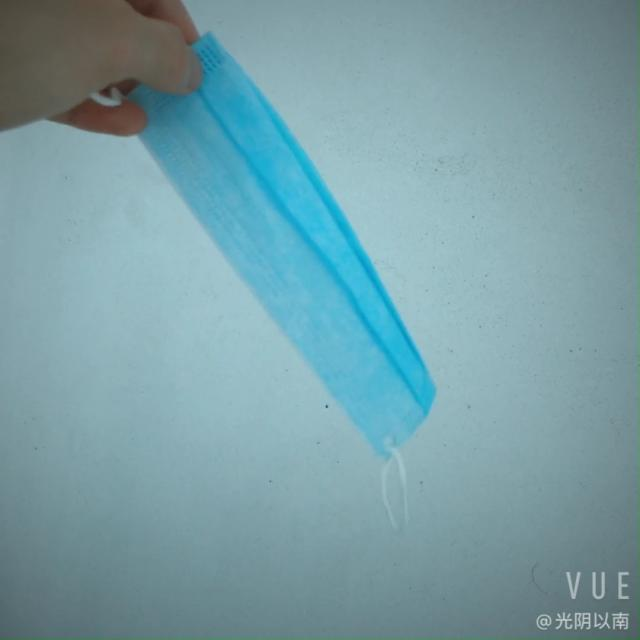non-organic waste: (111, 17, 470, 467)
